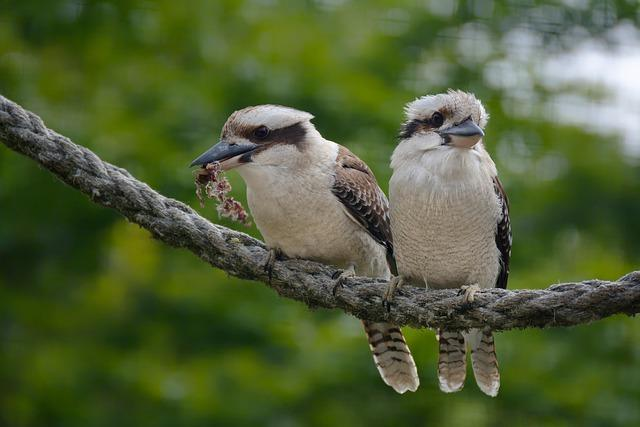Non_Gorille: (6, 8, 640, 418)
